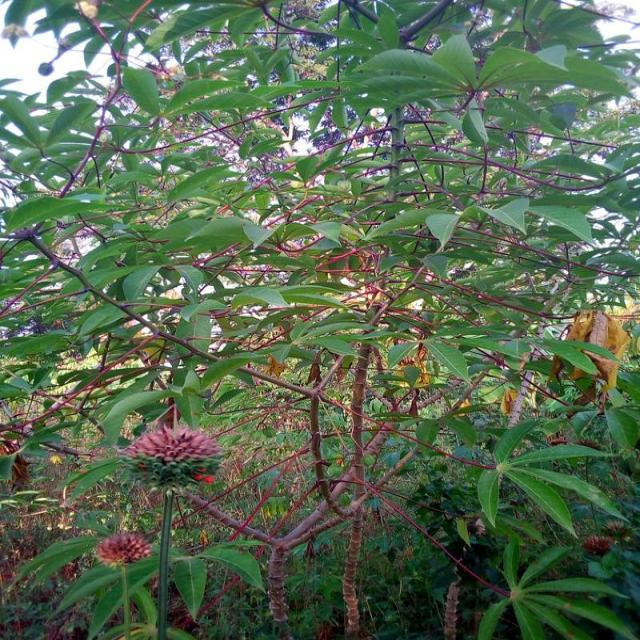cassava leaf: (339, 45, 466, 115)
